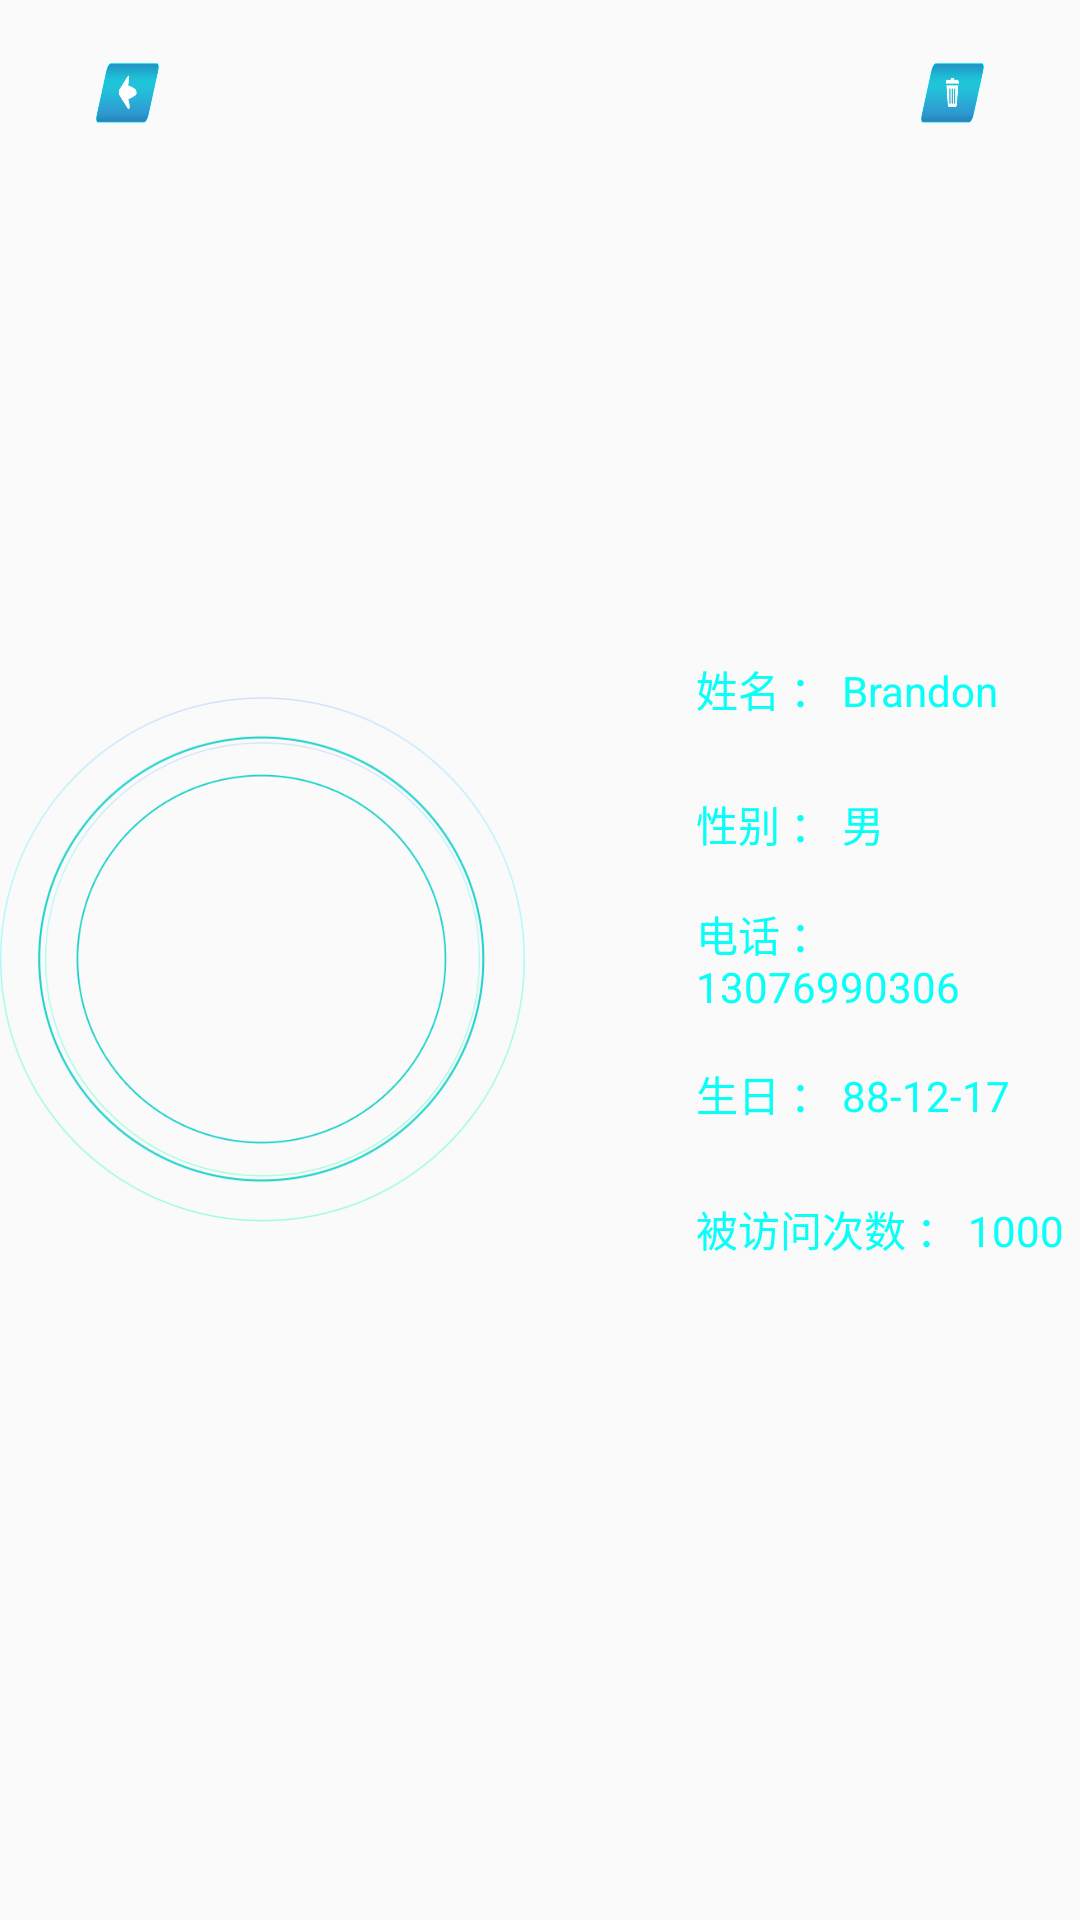

Icons on this 1080px x 1920px Android screen, each with the point to tap as (x,y):
delete: (952,93)
